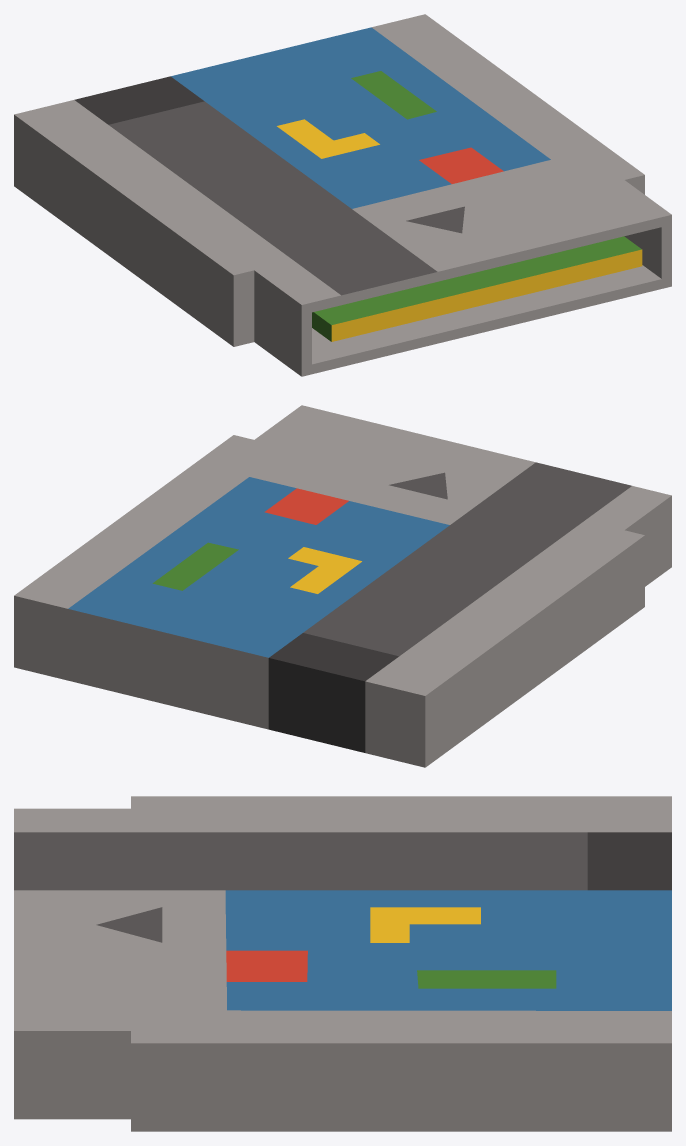
Rendered from electronics-cartridge-game-d.glb.
3 renders of one model, top to bottom at view 1: azimuth 30°, elevation 25°; view 2: azimuth 150°, elevation 25°; view 3: azimuth 270°, elevation 25°, orthographic. The views are drawn at different scales.
Visible parts, largest first — view 1: cartridge-game-d; view 2: cartridge-game-d; view 3: cartridge-game-d.
Part boxes in pixels (x1,y1,x2,y2): cartridge-game-d: [14, 14, 671, 376]; cartridge-game-d: [14, 405, 671, 767]; cartridge-game-d: [14, 796, 671, 1131].
Bounding box in the file's own units: 0.132 × 0.022 × 0.1485.
